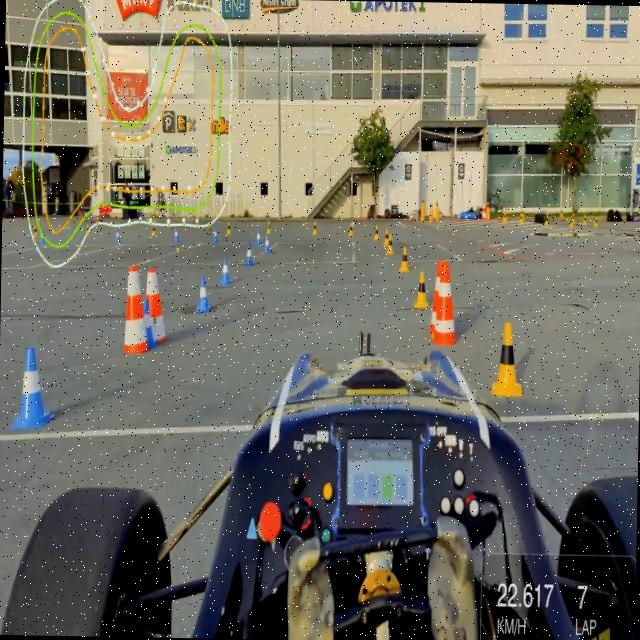blue_cone: (16, 342, 52, 438), (140, 297, 156, 350), (194, 272, 211, 316), (218, 254, 232, 287), (244, 240, 253, 268), (262, 233, 272, 254), (173, 224, 179, 242), (256, 228, 262, 245), (213, 226, 218, 244)
large_orange_cone: (120, 262, 148, 360), (434, 262, 458, 348), (141, 268, 166, 348), (430, 261, 448, 338), (482, 202, 488, 220)
yellow_cone: (492, 320, 524, 400), (413, 266, 431, 314), (398, 244, 410, 273), (386, 232, 394, 255), (312, 219, 318, 237), (348, 220, 354, 237), (373, 223, 379, 239), (266, 218, 271, 234), (226, 220, 231, 236), (152, 222, 156, 238)
